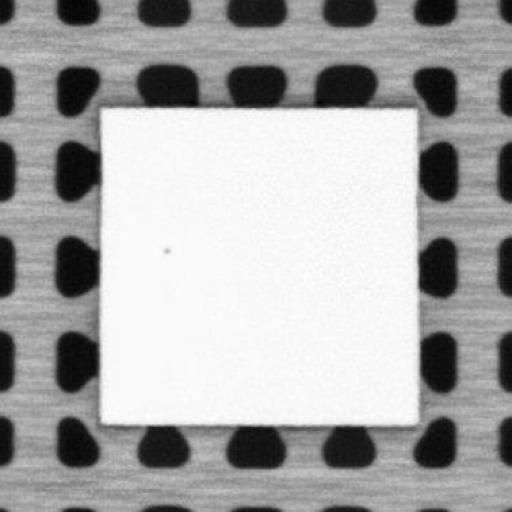DIE_INK: (157, 242, 172, 255)
